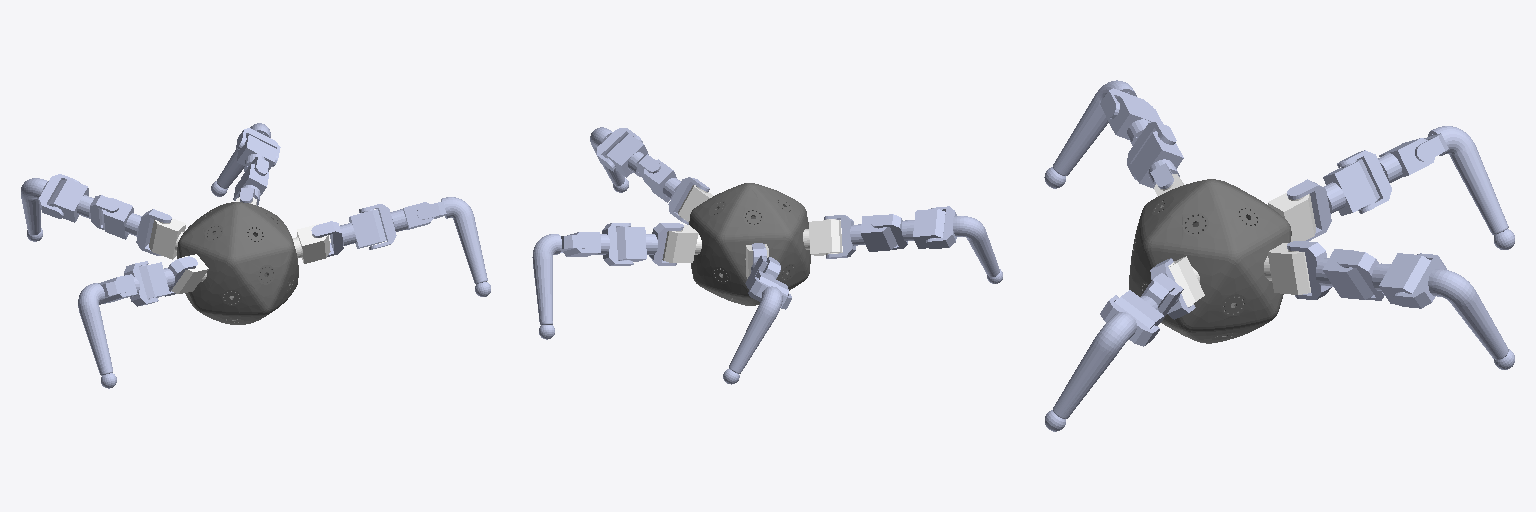
The robot description file, URDF, robot "mod_test":
<?xml version="1.0" encoding="utf-8"?>
<robot
  name="mod_test">
  <link
    name="base_link">
    <inertial>
      <origin
        xyz="-1.5226495220944E-06 1.5812928362389E-07 -5.05247252856584E-07"
        rpy="0 0 0" />
      <mass
        value="0.422806992949252" />
      <inertia
        ixx="0.00237499139253511"
        ixy="1.5717831530364E-08"
        ixz="1.49286265366169E-08"
        iyy="0.00237502154661776"
        iyz="-2.02154172619351E-08"
        izz="0.00237502595466009" />
    </inertial>
    <visual>
      <origin
        xyz="0 0 0"
        rpy="0 0 0" />
      <geometry>
        <mesh
          filename="package://meshes/base_link.STL" />
      </geometry>
      <material
        name="">
        <color
          rgba="0.498039215686275 0.498039215686275 0.498039215686275 1" />
      </material>
    </visual>
    <collision>
      <origin
        xyz="0 0 0"
        rpy="0 0 0" />
      <geometry>
        <mesh
          filename="package://meshes/base_link.STL" />
      </geometry>
    </collision>
  </link>
  <link
   name="60">
   <inertial>
      <origin
        xyz="0 0 0.028508"
        rpy="0 0 0" />
      <mass
        value="0.076173" />
      <inertia
        ixx="3.054E-05"
        ixy="-0.000000"
        ixz="-0.000000"
        iyy="2.1077E-05"
        iyz="-0.000000"
        izz="2.1165E-05" />
    </inertial>
    <visual>
      <origin
        xyz="0 0 0"
        rpy="0 0 0" />
      <geometry>
        <mesh
          filename="package://meshes/1.STL" />
      </geometry>
      <material
        name="">
        <color
          rgba="1 1 1 1" />
      </material>
    </visual>
    <collision>
      <origin
        xyz="0 0 0"
        rpy="0 0 0" />
      <geometry>
        <mesh
          filename="package://meshes/1.STL" />
      </geometry>
    </collision>
  </link>
  <joint
    name="body_60"
    type="fixed">
    <origin
        xyz="0.083523 -0.027138 0.016769"
        rpy="-1.353788 0.513383 -1.777092" />
    <parent
      link="base_link" />
    <child
      link="60" />
    <axis
      xyz="0 0 0" />
  </joint>
  <link
    name="61">
    <inertial>
      <origin
        xyz="0.060018 -1.4108E-06 1.4108E-06"
        rpy="0 0 0" />
    <mass
        value="0.10689" />
      <inertia
        ixx="3.2241e-05"
        ixy="3.5298e-07"
        ixz="2.0781e-07"
        iyy="8.5969e-05"
        iyz="-3.9192e-06"
        izz="8.1482e-05" />
    </inertial>
    <visual>
      <origin
        xyz="0 0 0"
        rpy="0 0 0" />
      <geometry>
        <mesh
          filename="package://meshes/module4.STL" />
      </geometry>
      <material
        name="">
        <color
          rgba="0.79216 0.81961 0.93333 1" />
      </material>
    </visual>
    <collision>
      <origin
        xyz="0 0 0"
        rpy="0 0 0" />
      <geometry>
        <mesh
          filename="package://meshes/module4.STL" />
      </geometry>
    </collision>
  </link>
  <joint
    name="60_61"
    type="revolute">
    <origin
      xyz="0 0 0.04"
      rpy="-1.558 -1.5708 -0.012835" />
    <parent
      link="60" />
    <child
      link="61" />
    <axis
      xyz="0 0 1" />
    <limit
      lower="-6.28"
      upper="6.28"
      effort="10"
      velocity="100" />
  </joint>
  <link
    name="62">
    <inertial>
      <origin
        xyz="0.060018 -1.4108E-06 1.4108E-06"
        rpy="0 0 0" />
    <mass
        value="0.10689" />
      <inertia
        ixx="3.2684e-05"
        ixy="-2.5662e-09"
        ixz="2.5662e-09"
        iyy="8.4132e-05"
        iyz="-2.1275e-13"
        izz="8.4583e-05" />
    </inertial>
    <visual>
      <origin
        xyz="0 0 0"
        rpy="0 0 0" />
      <geometry>
        <mesh
          filename="package://meshes/module3.STL" />
      </geometry>
      <material
        name="">
        <color
          rgba="0.79216 0.81961 0.93333 1" />
      </material>
    </visual>
    <collision>
      <origin
        xyz="0 0 0"
        rpy="0 0 0" />
      <geometry>
        <mesh
          filename="package://meshes/module3.STL" />
      </geometry>
    </collision>
  </link>
  <joint
    name="61_62"
    type="revolute">
    <origin
      xyz="0.0816 0 0"
      rpy="2.094395 0 0" />
    <parent
      link="61" />
    <child
      link="62" />
    <axis
      xyz="0 0 1" />
    <limit
      lower="-6.28"
      upper="6.28"
      effort="10"
      velocity="100" />
  </joint>
  <link
    name="63">
    <inertial>
      <origin
        xyz="0.051733 -0.042281 -1.3878E-17"
        rpy="0 0 0" />
    <mass
        value="0.12059" />
      <inertia
        ixx="0.00025425"
        ixy="4.8319E-05"
        ixz="0"
        iyy="5.0194E-05"
        iyz="-3.3141E-21"
        izz="0.00027482" />
    </inertial>
    <visual>
      <origin
        xyz="0 0 0"
        rpy="0 0 0" />
      <geometry>
        <mesh
          filename="package://meshes/leg.STL" />
      </geometry>
      <material
        name="">
        <color
          rgba="0.79216 0.81961 0.93333 1" />
      </material>
    </visual>
    <collision>
      <origin
        xyz="0 0 0"
        rpy="0 0 0" />
      <geometry>
        <mesh
          filename="package://meshes/leg.STL" />
      </geometry>
    </collision>
  </link>
  <joint
    name="62_63"
    type="revolute">
    <origin
      xyz="0.0816 0 0"
      rpy="1.570796 0 0" />
    <parent
      link="62" />
    <child
      link="63" />
    <axis
      xyz="0 0 1" />
    <limit
      lower="-6.28"
      upper="6.28"
      effort="10"
      velocity="100" />
  </joint>
  <link
   name="70">
   <inertial>
      <origin
        xyz="0 0 0.028508"
        rpy="0 0 0" />
      <mass
        value="0.076173" />
      <inertia
        ixx="3.054E-05"
        ixy="-0.000000"
        ixz="-0.000000"
        iyy="2.1077E-05"
        iyz="0.000000"
        izz="2.1165E-05" />
    </inertial>
    <visual>
      <origin
        xyz="0 0 0"
        rpy="0 0 0" />
      <geometry>
        <mesh
          filename="package://meshes/1.STL" />
      </geometry>
      <material
        name="">
        <color
          rgba="1 1 1 1" />
      </material>
    </visual>
    <collision>
      <origin
        xyz="0 0 0"
        rpy="0 0 0" />
      <geometry>
        <mesh
          filename="package://meshes/1.STL" />
      </geometry>
    </collision>
  </link>
  <joint
    name="body_70"
    type="fixed">
    <origin
        xyz="0.051620 0.071049 0.016769"
        rpy="-1.382126 -0.000000 -0.628319" />
    <parent
      link="base_link" />
    <child
      link="70" />
    <axis
      xyz="0 0 0" />
  </joint>
  <link
    name="71">
    <inertial>
      <origin
        xyz="0.060018 -1.4108E-06 1.4108E-06"
        rpy="0 0 0" />
    <mass
        value="0.10689" />
      <inertia
        ixx="3.2684e-05"
        ixy="-2.5662e-09"
        ixz="2.5662e-09"
        iyy="9.1229e-05"
        iyz="4.0975e-06"
        izz="7.7485e-05" />
    </inertial>
    <visual>
      <origin
        xyz="0 0 0"
        rpy="0 0 0" />
      <geometry>
        <mesh
          filename="package://meshes/module1.STL" />
      </geometry>
      <material
        name="">
        <color
          rgba="0.79216 0.81961 0.93333 1" />
      </material>
    </visual>
    <collision>
      <origin
        xyz="0 0 0"
        rpy="0 0 0" />
      <geometry>
        <mesh
          filename="package://meshes/module1.STL" />
      </geometry>
    </collision>
  </link>
  <joint
    name="70_71"
    type="revolute">
    <origin
      xyz="0 0 0.04"
      rpy="-1.558 -1.5708 -0.012835" />
    <parent
      link="70" />
    <child
      link="71" />
    <axis
      xyz="0 0 1" />
    <limit
      lower="-6.28"
      upper="6.28"
      effort="10"
      velocity="100" />
  </joint>
  <link
    name="72">
    <inertial>
      <origin
        xyz="0.060018 -1.4108E-06 1.4108E-06"
        rpy="0 0 0" />
    <mass
        value="0.10689" />
      <inertia
        ixx="3.2684e-05"
        ixy="-2.5662e-09"
        ixz="2.5662e-09"
        iyy="8.4132e-05"
        iyz="-2.1275e-13"
        izz="8.4583e-05" />
    </inertial>
    <visual>
      <origin
        xyz="0 0 0"
        rpy="0 0 0" />
      <geometry>
        <mesh
          filename="package://meshes/module9.STL" />
      </geometry>
      <material
        name="">
        <color
          rgba="0.79216 0.81961 0.93333 1" />
      </material>
    </visual>
    <collision>
      <origin
        xyz="0 0 0"
        rpy="0 0 0" />
      <geometry>
        <mesh
          filename="package://meshes/module9.STL" />
      </geometry>
    </collision>
  </link>
  <joint
    name="71_72"
    type="revolute">
    <origin
      xyz="0.0816 0 0"
      rpy="0.523599 0 0" />
    <parent
      link="71" />
    <child
      link="72" />
    <axis
      xyz="0 0 1" />
    <limit
      lower="-6.28"
      upper="6.28"
      effort="10"
      velocity="100" />
  </joint>
  <link
    name="73">
    <inertial>
      <origin
        xyz="0.051733 -0.042281 -1.3878E-17"
        rpy="0 0 0" />
    <mass
        value="0.12059" />
      <inertia
        ixx="0.00025425"
        ixy="4.8319E-05"
        ixz="0"
        iyy="5.0194E-05"
        iyz="-3.3141E-21"
        izz="0.00027482" />
    </inertial>
    <visual>
      <origin
        xyz="0 0 0"
        rpy="0 0 0" />
      <geometry>
        <mesh
          filename="package://meshes/leg.STL" />
      </geometry>
      <material
        name="">
        <color
          rgba="0.79216 0.81961 0.93333 1" />
      </material>
    </visual>
    <collision>
      <origin
        xyz="0 0 0"
        rpy="0 0 0" />
      <geometry>
        <mesh
          filename="package://meshes/leg.STL" />
      </geometry>
    </collision>
  </link>
  <joint
    name="72_73"
    type="revolute">
    <origin
      xyz="0.0816 0 0"
      rpy="4.712389 0 0" />
    <parent
      link="72" />
    <child
      link="73" />
    <axis
      xyz="0 0 1" />
    <limit
      lower="-6.28"
      upper="6.28"
      effort="10"
      velocity="100" />
  </joint>
  <link
   name="80">
   <inertial>
      <origin
        xyz="0 0 0.028508"
        rpy="0 0 0" />
      <mass
        value="0.076173" />
      <inertia
        ixx="3.054E-05"
        ixy="-0.000000"
        ixz="-0.000000"
        iyy="2.1077E-05"
        iyz="-0.000000"
        izz="2.1165E-05" />
    </inertial>
    <visual>
      <origin
        xyz="0 0 0"
        rpy="0 0 0" />
      <geometry>
        <mesh
          filename="package://meshes/1.STL" />
      </geometry>
      <material
        name="">
        <color
          rgba="1 1 1 1" />
      </material>
    </visual>
    <collision>
      <origin
        xyz="0 0 0"
        rpy="0 0 0" />
      <geometry>
        <mesh
          filename="package://meshes/1.STL" />
      </geometry>
    </collision>
  </link>
  <joint
    name="body_80"
    type="fixed">
    <origin
        xyz="-0.051620 0.071049 0.016769"
        rpy="1.382126 -0.000000 -2.513274" />
    <parent
      link="base_link" />
    <child
      link="80" />
    <axis
      xyz="0 0 0" />
  </joint>
  <link
    name="81">
    <inertial>
      <origin
        xyz="0.060018 -1.4108E-06 1.4108E-06"
        rpy="0 0 0" />
    <mass
        value="0.10689" />
      <inertia
        ixx="3.2684e-05"
        ixy="-2.5662e-09"
        ixz="2.5662e-09"
        iyy="9.1229e-05"
        iyz="-4.0975e-06"
        izz="7.7485e-05" />
    </inertial>
    <visual>
      <origin
        xyz="0 0 0"
        rpy="0 0 0" />
      <geometry>
        <mesh
          filename="package://meshes/module11.STL" />
      </geometry>
      <material
        name="">
        <color
          rgba="0.79216 0.81961 0.93333 1" />
      </material>
    </visual>
    <collision>
      <origin
        xyz="0 0 0"
        rpy="0 0 0" />
      <geometry>
        <mesh
          filename="package://meshes/module11.STL" />
      </geometry>
    </collision>
  </link>
  <joint
    name="80_81"
    type="revolute">
    <origin
      xyz="0 0 0.04"
      rpy="-1.558 -1.5708 -0.012835" />
    <parent
      link="80" />
    <child
      link="81" />
    <axis
      xyz="0 0 1" />
    <limit
      lower="-6.28"
      upper="6.28"
      effort="10"
      velocity="100" />
  </joint>
  <link
    name="82">
    <inertial>
      <origin
        xyz="0.060018 -1.4108E-06 1.4108E-06"
        rpy="0 0 0" />
    <mass
        value="0.10689" />
      <inertia
        ixx="3.2684e-05"
        ixy="-2.5662e-09"
        ixz="2.5662e-09"
        iyy="8.4132e-05"
        iyz="-2.1275e-13"
        izz="8.4583e-05" />
    </inertial>
    <visual>
      <origin
        xyz="0 0 0"
        rpy="0 0 0" />
      <geometry>
        <mesh
          filename="package://meshes/module3.STL" />
      </geometry>
      <material
        name="">
        <color
          rgba="0.79216 0.81961 0.93333 1" />
      </material>
    </visual>
    <collision>
      <origin
        xyz="0 0 0"
        rpy="0 0 0" />
      <geometry>
        <mesh
          filename="package://meshes/module3.STL" />
      </geometry>
    </collision>
  </link>
  <joint
    name="81_82"
    type="revolute">
    <origin
      xyz="0.0816 0 0"
      rpy="5.759587 0 0" />
    <parent
      link="81" />
    <child
      link="82" />
    <axis
      xyz="0 0 1" />
    <limit
      lower="-6.28"
      upper="6.28"
      effort="10"
      velocity="100" />
  </joint>
  <link
    name="83">
    <inertial>
      <origin
        xyz="0.051733 -0.042281 -1.3878E-17"
        rpy="0 0 0" />
    <mass
        value="0.12059" />
      <inertia
        ixx="0.00025425"
        ixy="4.8319E-05"
        ixz="0"
        iyy="5.0194E-05"
        iyz="-3.3141E-21"
        izz="0.00027482" />
    </inertial>
    <visual>
      <origin
        xyz="0 0 0"
        rpy="0 0 0" />
      <geometry>
        <mesh
          filename="package://meshes/leg.STL" />
      </geometry>
      <material
        name="">
        <color
          rgba="0.79216 0.81961 0.93333 1" />
      </material>
    </visual>
    <collision>
      <origin
        xyz="0 0 0"
        rpy="0 0 0" />
      <geometry>
        <mesh
          filename="package://meshes/leg.STL" />
      </geometry>
    </collision>
  </link>
  <joint
    name="82_83"
    type="revolute">
    <origin
      xyz="0.0816 0 0"
      rpy="1.570796 0 0" />
    <parent
      link="82" />
    <child
      link="83" />
    <axis
      xyz="0 0 1" />
    <limit
      lower="-6.28"
      upper="6.28"
      effort="10"
      velocity="100" />
  </joint>
  <link
   name="90">
   <inertial>
      <origin
        xyz="0 0 0.028508"
        rpy="0 0 0" />
      <mass
        value="0.076173" />
      <inertia
        ixx="3.054E-05"
        ixy="0.000000"
        ixz="-0.000000"
        iyy="2.1077E-05"
        iyz="-0.000000"
        izz="2.1165E-05" />
    </inertial>
    <visual>
      <origin
        xyz="0 0 0"
        rpy="0 0 0" />
      <geometry>
        <mesh
          filename="package://meshes/1.STL" />
      </geometry>
      <material
        name="">
        <color
          rgba="1 1 1 1" />
      </material>
    </visual>
    <collision>
      <origin
        xyz="0 0 0"
        rpy="0 0 0" />
      <geometry>
        <mesh
          filename="package://meshes/1.STL" />
      </geometry>
    </collision>
  </link>
  <joint
    name="body_90"
    type="fixed">
    <origin
        xyz="-0.083523 -0.027138 0.016769"
        rpy="1.353788 0.513383 -1.364500" />
    <parent
      link="base_link" />
    <child
      link="90" />
    <axis
      xyz="0 0 0" />
  </joint>
  <link
    name="91">
    <inertial>
      <origin
        xyz="0.060018 -1.4108E-06 1.4108E-06"
        rpy="0 0 0" />
    <mass
        value="0.10689" />
      <inertia
        ixx="3.2684e-05"
        ixy="-2.5662e-09"
        ixz="2.5662e-09"
        iyy="8.6498e-05"
        iyz="4.0975e-06"
        izz="8.2217e-05" />
    </inertial>
    <visual>
      <origin
        xyz="0 0 0"
        rpy="0 0 0" />
      <geometry>
        <mesh
          filename="package://meshes/module8.STL" />
      </geometry>
      <material
        name="">
        <color
          rgba="0.79216 0.81961 0.93333 1" />
      </material>
    </visual>
    <collision>
      <origin
        xyz="0 0 0"
        rpy="0 0 0" />
      <geometry>
        <mesh
          filename="package://meshes/module8.STL" />
      </geometry>
    </collision>
  </link>
  <joint
    name="90_91"
    type="revolute">
    <origin
      xyz="0 0 0.04"
      rpy="-1.558 -1.5708 -0.012835" />
    <parent
      link="90" />
    <child
      link="91" />
    <axis
      xyz="0 0 1" />
    <limit
      lower="-6.28"
      upper="6.28"
      effort="10"
      velocity="100" />
  </joint>
  <link
    name="92">
    <inertial>
      <origin
        xyz="0.060018 -1.4108E-06 1.4108E-06"
        rpy="0 0 0" />
    <mass
        value="0.10689" />
      <inertia
        ixx="3.2684e-05"
        ixy="-2.5662e-09"
        ixz="2.5662e-09"
        iyy="8.4132e-05"
        iyz="-2.1275e-13"
        izz="8.4583e-05" />
    </inertial>
    <visual>
      <origin
        xyz="0 0 0"
        rpy="0 0 0" />
      <geometry>
        <mesh
          filename="package://meshes/module9.STL" />
      </geometry>
      <material
        name="">
        <color
          rgba="0.79216 0.81961 0.93333 1" />
      </material>
    </visual>
    <collision>
      <origin
        xyz="0 0 0"
        rpy="0 0 0" />
      <geometry>
        <mesh
          filename="package://meshes/module9.STL" />
      </geometry>
    </collision>
  </link>
  <joint
    name="91_92"
    type="revolute">
    <origin
      xyz="0.0816 0 0"
      rpy="4.188790 0 0" />
    <parent
      link="91" />
    <child
      link="92" />
    <axis
      xyz="0 0 1" />
    <limit
      lower="-6.28"
      upper="6.28"
      effort="10"
      velocity="100" />
  </joint>
  <link
    name="93">
    <inertial>
      <origin
        xyz="0.051733 -0.042281 -1.3878E-17"
        rpy="0 0 0" />
    <mass
        value="0.12059" />
      <inertia
        ixx="0.00025425"
        ixy="4.8319E-05"
        ixz="0"
        iyy="5.0194E-05"
        iyz="-3.3141E-21"
        izz="0.00027482" />
    </inertial>
    <visual>
      <origin
        xyz="0 0 0"
        rpy="0 0 0" />
      <geometry>
        <mesh
          filename="package://meshes/leg.STL" />
      </geometry>
      <material
        name="">
        <color
          rgba="0.79216 0.81961 0.93333 1" />
      </material>
    </visual>
    <collision>
      <origin
        xyz="0 0 0"
        rpy="0 0 0" />
      <geometry>
        <mesh
          filename="package://meshes/leg.STL" />
      </geometry>
    </collision>
  </link>
  <joint
    name="92_93"
    type="revolute">
    <origin
      xyz="0.0816 0 0"
      rpy="4.712389 0 0" />
    <parent
      link="92" />
    <child
      link="93" />
    <axis
      xyz="0 0 1" />
    <limit
      lower="-6.28"
      upper="6.28"
      effort="10"
      velocity="100" />
  </joint>
  <link
    name = "ball_1">
    <inertial>
    <origin
        xyz="0 0 0"
        rpy="0 0 0" />
    <mass
        value="0" />
      <inertia
        ixx="0"
        ixy="0"
        ixz="0"
        iyy="0"
        iyz="0"
        izz="0" />
    </inertial>    <visual>
      <origin
        xyz="0 0 0"
        rpy="0 0 0" />
     <geometry>
        <sphere radius = "0.01"/>
      </geometry>
      <material
        name="green">
        <color
          rgba="0.22 1 0.4 1" />
      </material>
    </visual>
  </link>
  <joint
  name="63_ball1"
  type="fixed">
    <origin
      xyz="0.0612 -0.13431 0"
      rpy="0 0 0" />
    <parent
      link="63" />
    <child
      link="ball_1" />
    <axis
      xyz="0 0 0" />
  </joint>
  <link
    name = "ball_2">
    <inertial>
    <origin
        xyz="0 0 0"
        rpy="0 0 0" />
    <mass
        value="0" />
      <inertia
        ixx="0"
        ixy="0"
        ixz="0"
        iyy="0"
        iyz="0"
        izz="0" />
    </inertial>    <visual>
      <origin
        xyz="0 0 0"
        rpy="0 0 0" />
      <geometry>
        <sphere radius = "0.01"/>
      </geometry>
      <material
        name="blue">
        <color
          rgba="0.16 0.52 0.8 1" />
      </material>
    </visual>
  </link>
  <joint
  name="73_ball2"
  type="fixed">
    <origin
      xyz="0.0612 -0.13431 0"
      rpy="0 0 0" />
    <parent
      link="73" />
    <child
      link="ball_2" />
    <axis
      xyz="0 0 0" />
  </joint>
  <link
    name = "ball_3">
    <inertial>
    <origin
        xyz="0 0 0"
        rpy="0 0 0" />
    <mass
        value="0" />
      <inertia
        ixx="0"
        ixy="0"
        ixz="0"
        iyy="0"
        iyz="0"
        izz="0" />
    </inertial>    <visual>
      <origin
        xyz="0 0 0"
        rpy="0 0 0" />
     <geometry>
        <sphere radius = "0.01"/>
      </geometry>
      <material
        name="blue">
        <color
          rgba="0.16 0.52 0.8 1" />
      </material>
    </visual>
  </link>
  <joint
  name="83_ball3"
  type="fixed">
    <origin
      xyz="0.0612 -0.13431 0"
      rpy="0 0 0" />
    <parent
      link="83" />
    <child
      link="ball_3" />
    <axis
      xyz="0 0 0" />
  </joint>
  <link
    name = "ball_4">
    <inertial>
    <origin
        xyz="0 0 0"
        rpy="0 0 0" />
    <mass
        value="0" />
      <inertia
        ixx="0"
        ixy="0"
        ixz="0"
        iyy="0"
        iyz="0"
        izz="0" />
    </inertial>    <visual>
      <origin
        xyz="0 0 0"
        rpy="0 0 0" />
      <geometry>
        <sphere radius = "0.01"/>
      </geometry>
      <material
        name="yellow">
        <color
          rgba="1 1 0 1" />
      </material>
    </visual>
  </link>
  <joint
  name="93_ball4"
  type="fixed">
    <origin
      xyz="0.0612 -0.13431 0"
      rpy="0 0 0" />
    <parent
      link="93" />
    <child
      link="ball_4" />
    <axis
      xyz="0 0 0" />
  </joint>
</robot>

--- Facts derived from the render (not from the file) ---
3 views of the same robot in one strip: view 1: azimuth 30°, elevation 25°; view 2: azimuth 150°, elevation 25°; view 3: azimuth 270°, elevation 25° (orthographic).
Robot: mod_test — 21 links, 20 joints (12 revolute, 8 fixed); root link base_link; default pose: all joints at 0.
Visible links, largest first — view 1: base_link, 93, 63, 61, 82, 83, 81, 91, 62, 73, 72, 80 (+4 smaller); view 2: base_link, 73, 83, 93, 71, 92, 91, 61, 62, 90, 72, 63 (+3 smaller); view 3: base_link, 63, 73, 83, 81, 93, 72, 71, 82, 92, 91, 70 (+4 smaller).
Boxes of the visible links, box(x1,y1,x2,y2) form: base_link: box(177, 202, 298, 324); 93: box(78, 279, 130, 388); 63: box(417, 197, 490, 296); 61: box(311, 209, 386, 256); 82: box(48, 179, 118, 229); 83: box(21, 174, 80, 241); 81: box(101, 198, 171, 255); 91: box(139, 256, 197, 299); 62: box(359, 202, 433, 249); 73: box(211, 123, 280, 196); 72: box(237, 135, 276, 177); 80: box(149, 218, 185, 259); base_link: box(689, 183, 810, 305); 73: box(532, 234, 592, 339); 83: box(723, 276, 791, 384); 93: box(925, 206, 1002, 283); 71: box(616, 223, 683, 265); 92: box(871, 209, 945, 249); 91: box(824, 215, 897, 258); 61: box(644, 159, 709, 224); 62: box(604, 134, 660, 186); 90: box(803, 219, 842, 255); 72: box(563, 223, 633, 265); 63: box(590, 127, 642, 192); base_link: box(1129, 179, 1291, 343); 63: box(1045, 295, 1159, 431); 73: box(1393, 253, 1514, 369); 83: box(1415, 126, 1514, 249); 81: box(1287, 159, 1379, 240); 93: box(1044, 80, 1153, 188); 72: box(1336, 251, 1430, 304); 71: box(1287, 241, 1373, 299); 82: box(1337, 138, 1434, 213); 92: box(1106, 97, 1176, 180); 91: box(1130, 131, 1183, 188); 70: box(1264, 243, 1310, 294).
Bounding box of the posed robot: 0.693 × 0.5416 × 0.2045 m (x, y, z).
17 mesh visuals loaded from 9 distinct referenced files (9 binary STL).